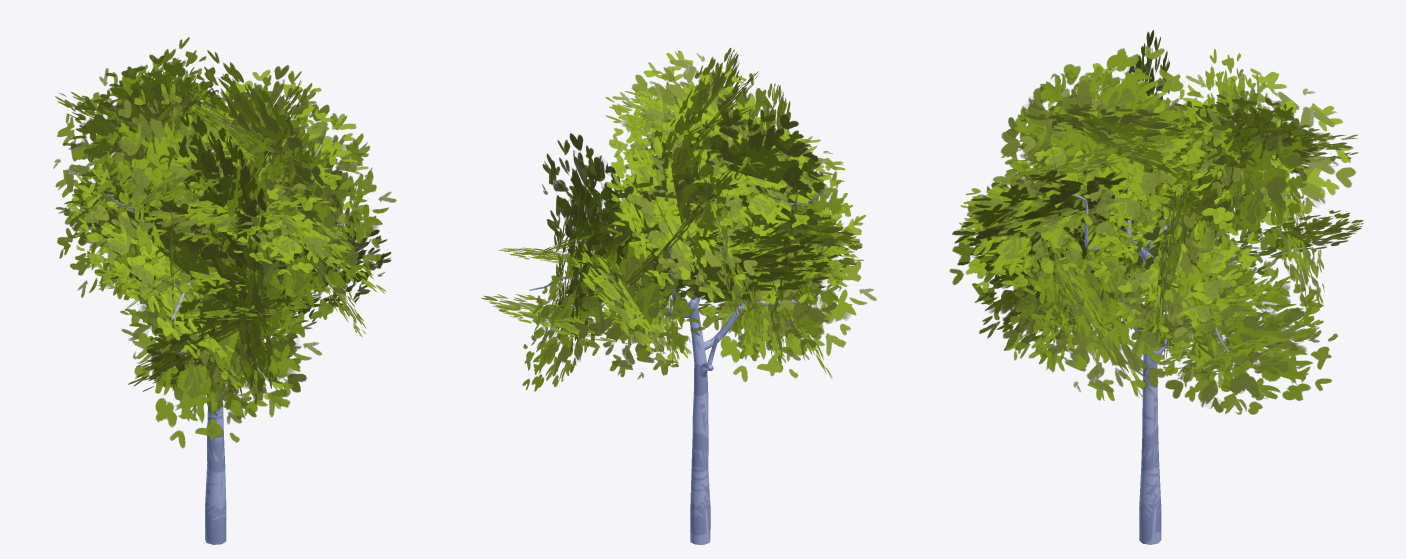
File: asset.gltf
3 renders of one model, left to right at view 1: azimuth 30°, elevation 25°; view 2: azimuth 150°, elevation 25°; view 3: azimuth 270°, elevation 25°, orthographic. The views are drawn at different scales.
Visible parts, largest first — view 1: tree; view 2: tree; view 3: tree.
Boxes of the visible parts, box(x1,y1,x2,y2) form: tree: box(53, 37, 396, 544); tree: box(481, 48, 876, 544); tree: box(949, 30, 1363, 544).
Size of the model in its own units: 3.55 by 4.66 by 3.82.
2 materials, 2 textured.
